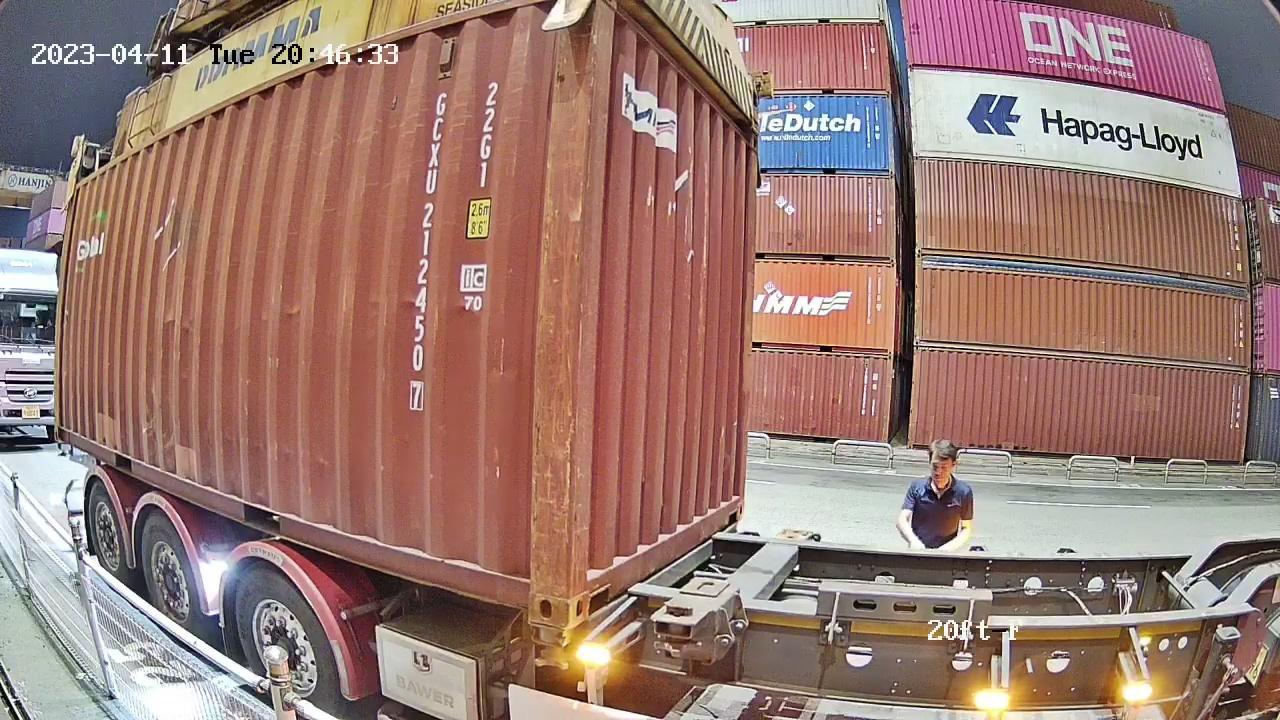Chassis: (566, 521, 740, 667)
Cone: (529, 620, 567, 670)
Container: (571, 473, 745, 627)
Hole_L: (571, 538, 612, 628)
Hole_R: (495, 538, 570, 628), (727, 476, 745, 523)
Tire: (234, 569, 343, 716), (142, 517, 203, 633), (88, 484, 128, 583)
